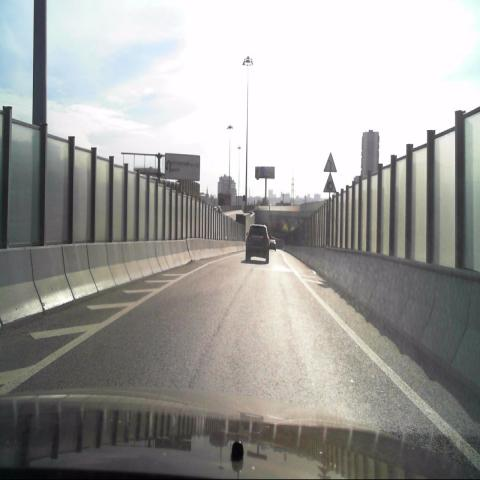1_31: (322, 172, 336, 193)
